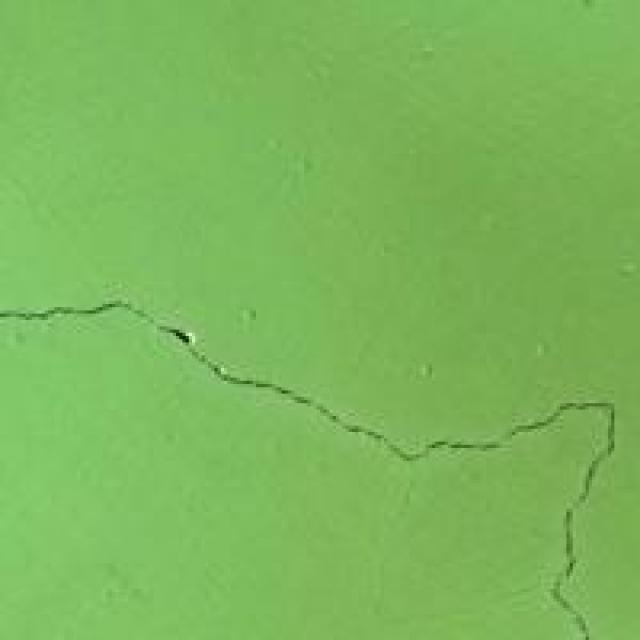Crack: (0, 256, 614, 637)
